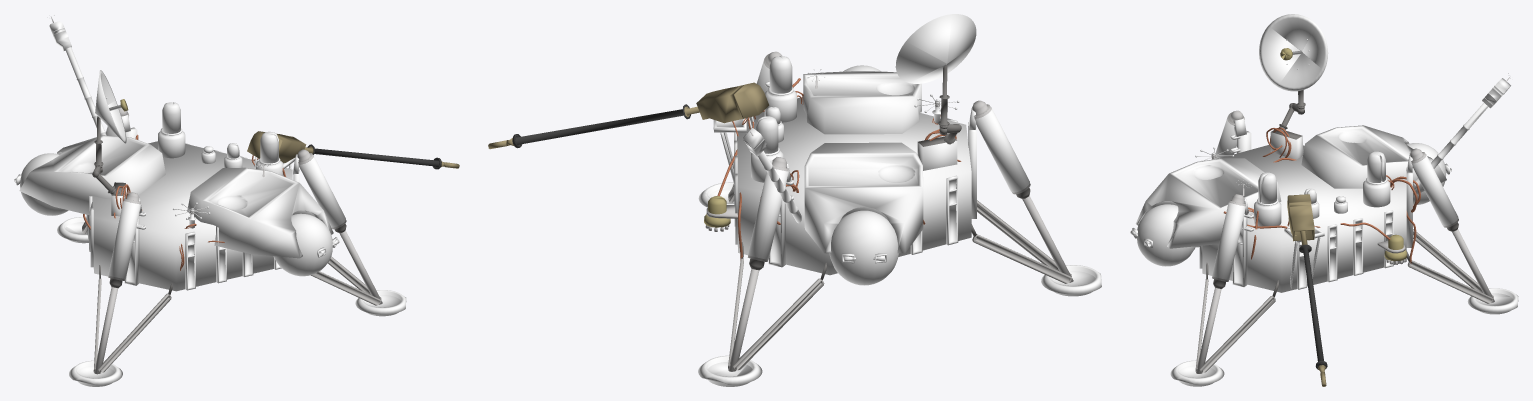
File: viking.glb
The picture shows the model from 3 angles, left to right: view 1: azimuth 30°, elevation 25°; view 2: azimuth 150°, elevation 25°; view 3: azimuth 270°, elevation 25°; orthographic projection. The views are drawn at different scales.
Parts seen in each view (by area): view 1: polySurfa1, polySurfa2; view 2: polySurfa1, polySurfa2; view 3: polySurfa1, polySurfa2.
Boxes of the visible parts, left/top/right/bottom form: polySurfa1: left=14, top=15, right=459, bottom=386; polySurfa2: left=83, top=134, right=258, bottom=270; polySurfa1: left=488, top=14, right=1101, bottom=386; polySurfa2: left=717, top=94, right=961, bottom=259; polySurfa1: left=1130, top=14, right=1518, bottom=386; polySurfa2: left=1211, top=127, right=1420, bottom=263.
Size of the model in its own units: 16.74 by 8.97 by 12.55.
Materials: 4 (4 with a texture image).
